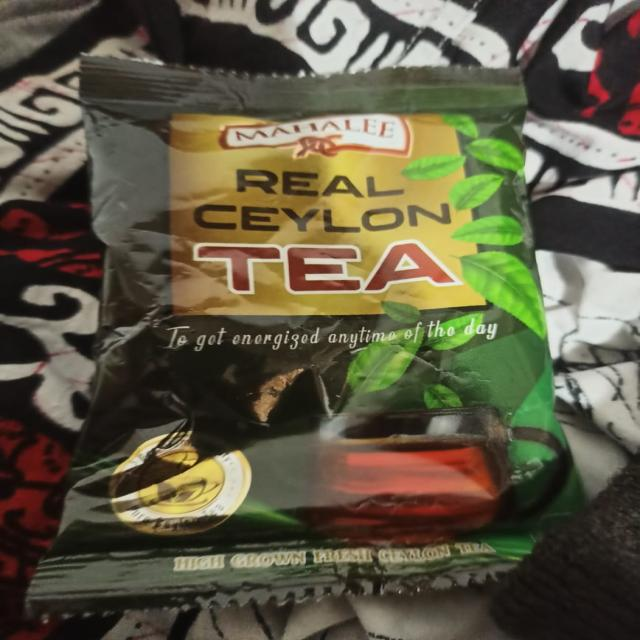Ceryloan TEA: (52, 29, 606, 633)
